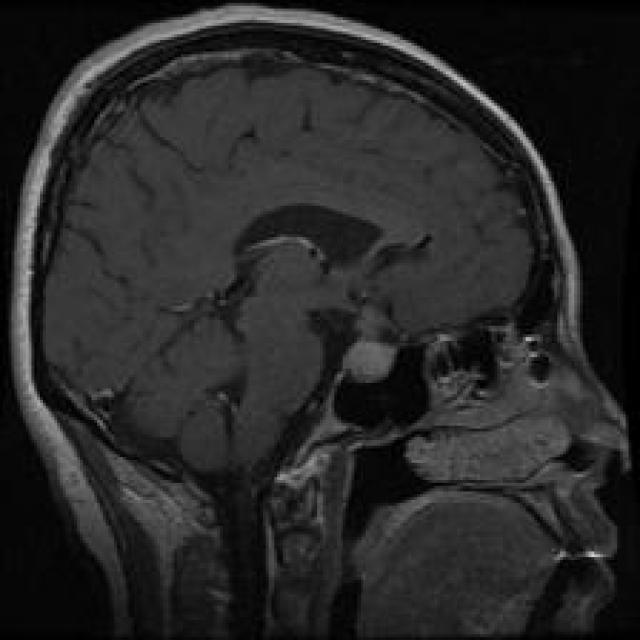pituitary_tumor: (325, 315, 417, 400)
